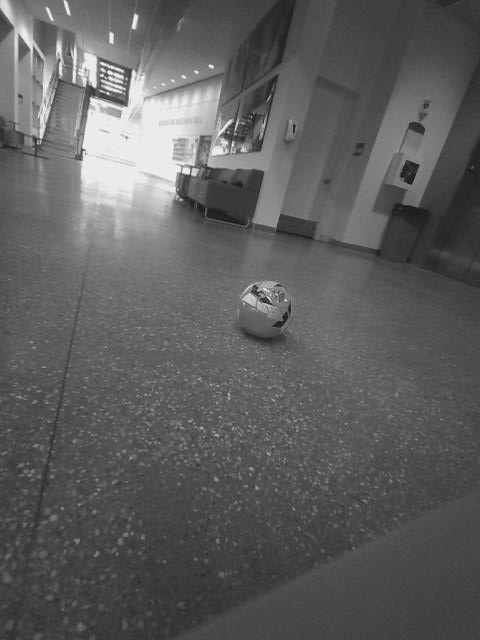ball: (291, 296, 370, 367)
